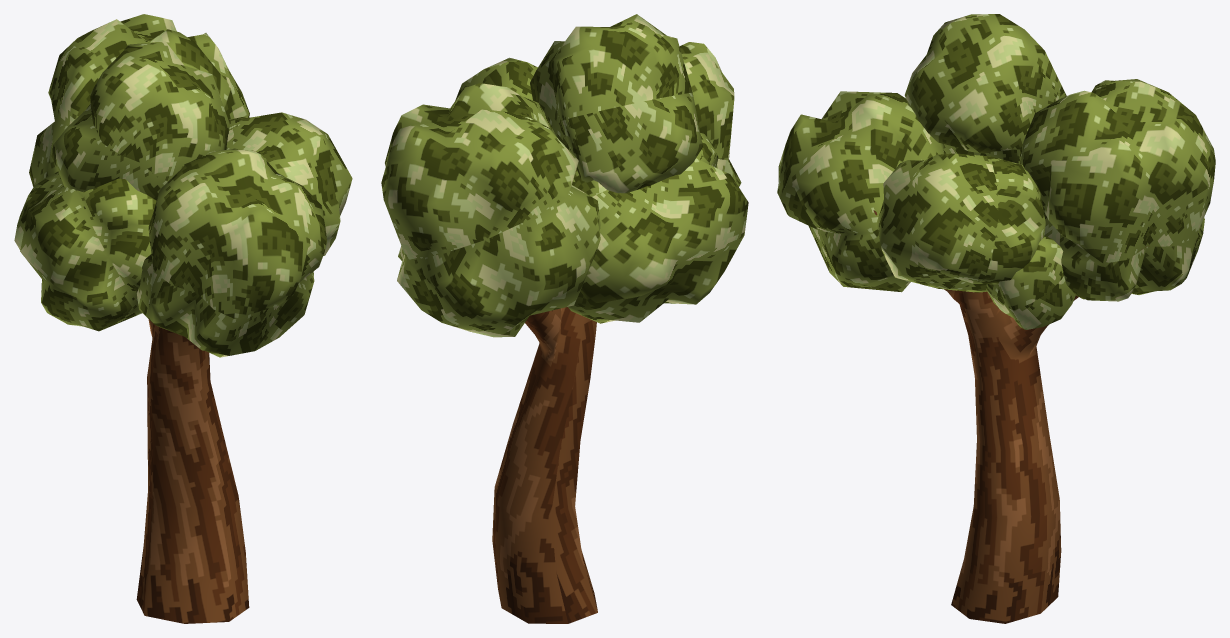
Rendered from Tree 1 Reduced.fbx.
3 views of the same model, side by side, from view 1: azimuth 30°, elevation 25°; view 2: azimuth 150°, elevation 25°; view 3: azimuth 270°, elevation 25° (orthographic). The views are drawn at different scales.
Visible parts, largest first — view 1: TreeVarant; view 2: TreeVarant; view 3: TreeVarant.
Boxes of the visible parts, x1,y1,x2,y2 form: TreeVarant: (14,14,352,623); TreeVarant: (381,14,748,623); TreeVarant: (777,14,1215,623).
Bounding box in the file's own units: 72.59 × 135 × 97.41.
1 material, 1 textured.
